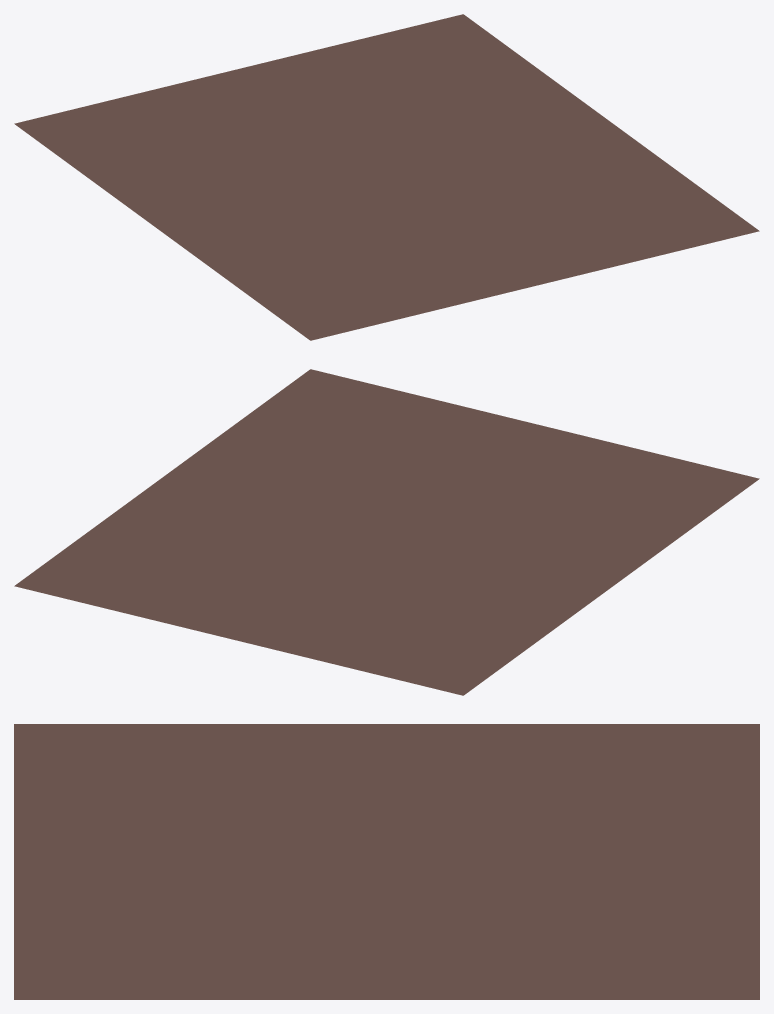
Rendered from floor.fbx.
3 views of the same model, one above another, from view 1: azimuth 30°, elevation 25°; view 2: azimuth 150°, elevation 25°; view 3: azimuth 270°, elevation 25° (orthographic). The views are drawn at different scales.
Visible parts, largest first — view 1: Floor_Panel; view 2: Floor_Panel; view 3: Floor_Panel.
Boxes of the visible parts, x1,y1,x2,y2 form: Floor_Panel: [14, 14, 759, 340]; Floor_Panel: [14, 369, 759, 695]; Floor_Panel: [14, 724, 759, 999].
Size of the model in its own units: 7.02 by 1.78e-15 by 8.03.
